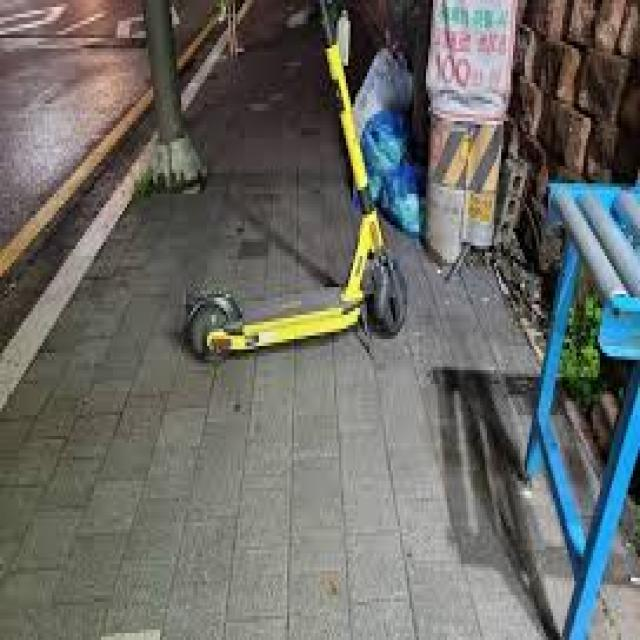curb: (0, 138, 141, 415)
kick-board: (181, 0, 407, 360)
lane: (1, 91, 154, 281)
road: (0, 0, 153, 284)
sidewalk: (0, 3, 565, 640)
verge: (0, 114, 148, 353)
